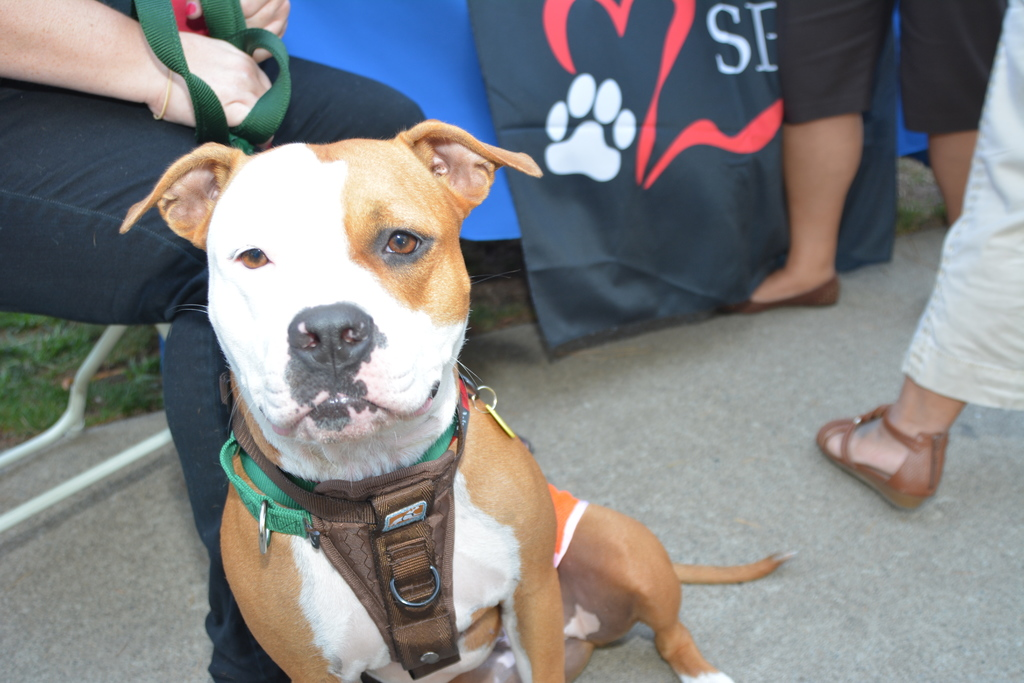Person: (0, 0, 426, 683), (816, 0, 1024, 510), (721, 0, 1011, 317)
